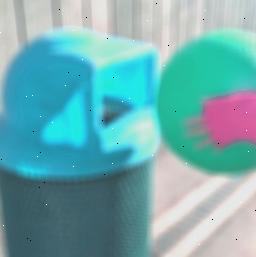algae: (155, 25, 256, 170)
